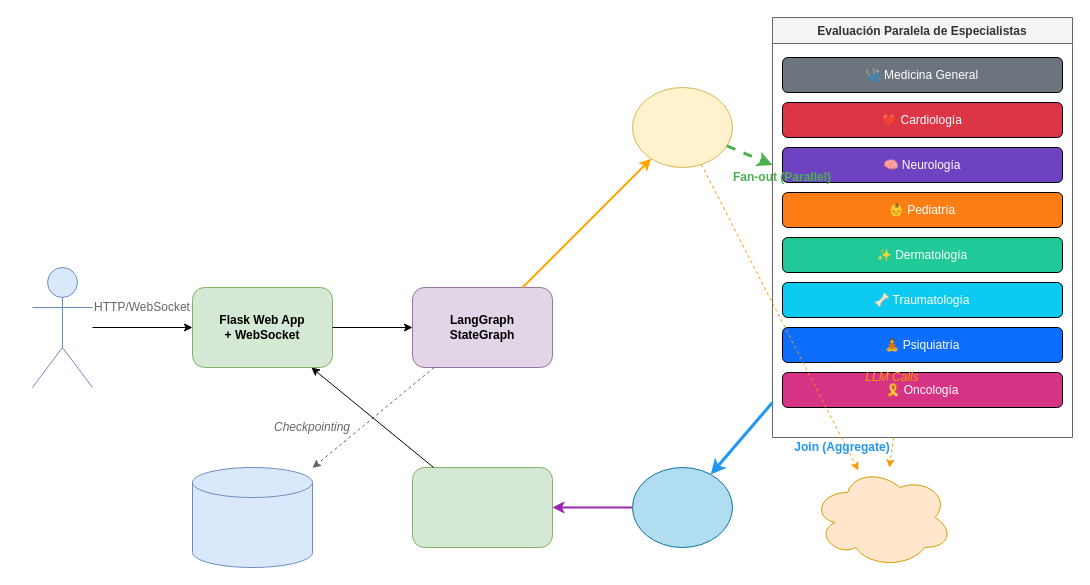
This 1090x585 diagram has some shape labels left out. Here are the shapes that lost their labels. From the top down, the centre of each, then its label:
At point (682, 127): "Triage Agent".
At point (62, 327): "Usuario/Paciente".
At point (252, 517): "PostgreSQL Database".
At point (482, 507): "Chat con Especialista".
At point (682, 507): "Consensus Agent".
At point (882, 517): "OpenAI GPT-5.1 API".
